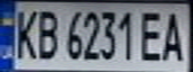1: (115, 8, 139, 62)
2: (78, 7, 100, 61)
3: (100, 7, 121, 62)
6: (60, 7, 84, 61)
A: (157, 7, 190, 63)
B: (33, 6, 60, 61)
E: (136, 7, 169, 62)
K: (9, 6, 39, 61)
